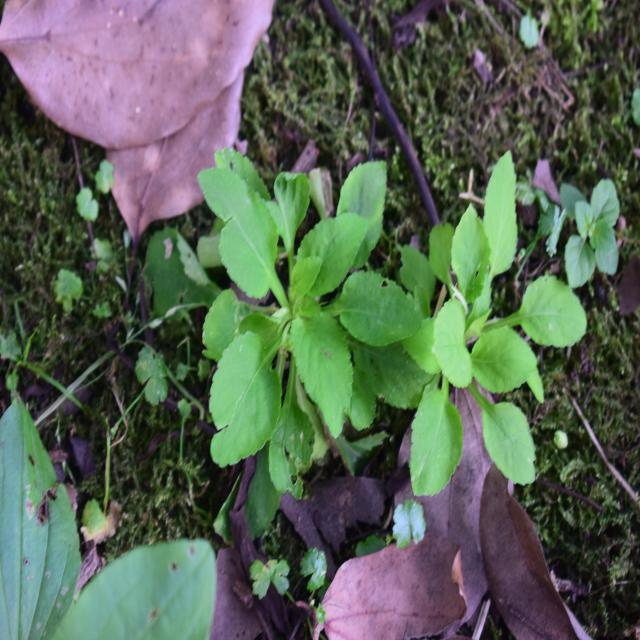Viola: (365, 165, 579, 515), (170, 145, 401, 462)
